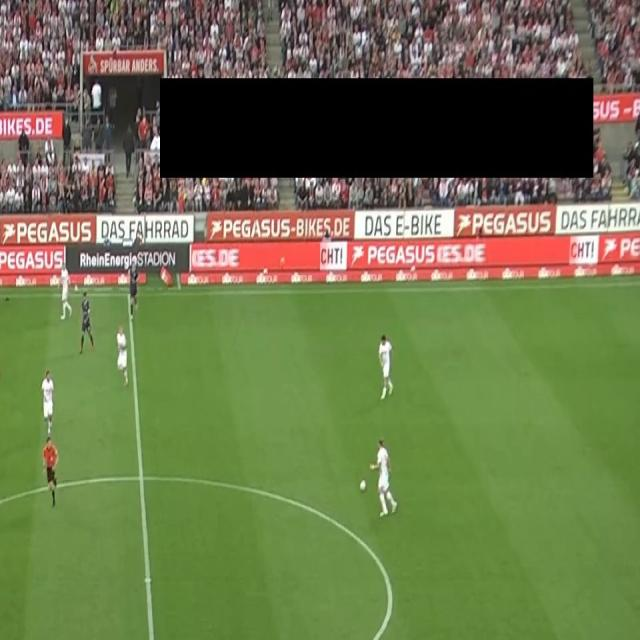ball: (359, 478, 367, 494)
